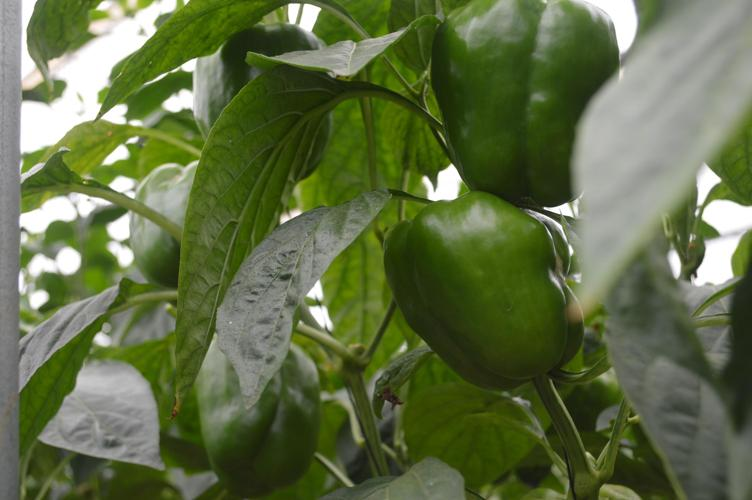BellPepper: (378, 194, 585, 388), (426, 4, 620, 200), (188, 23, 330, 178), (190, 341, 320, 492), (129, 160, 203, 297)
